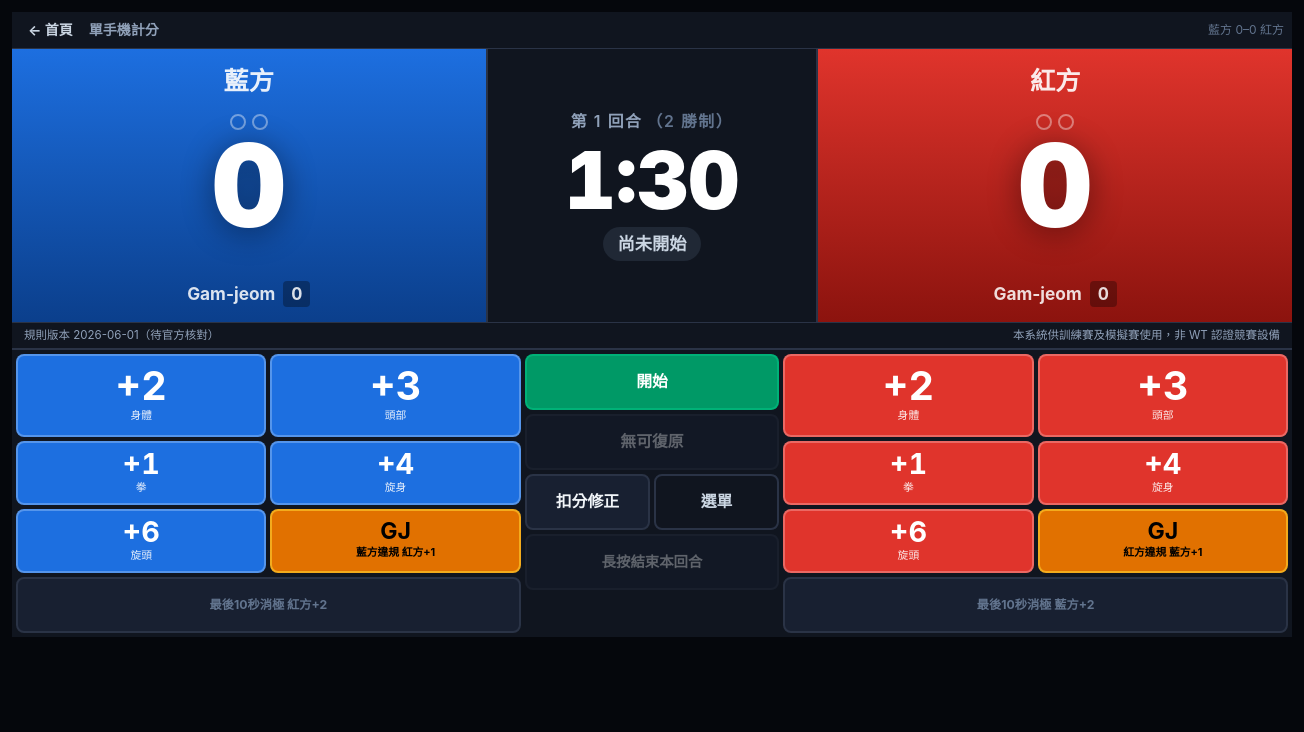
Scenario: 單機計分頁：修正與復原 › 扣分修正是單次模式：扣一次後自動退出
The width and height of the screenshot is (1304, 732).
Click the button "開始" at [652, 382], box [525,354,779,410]
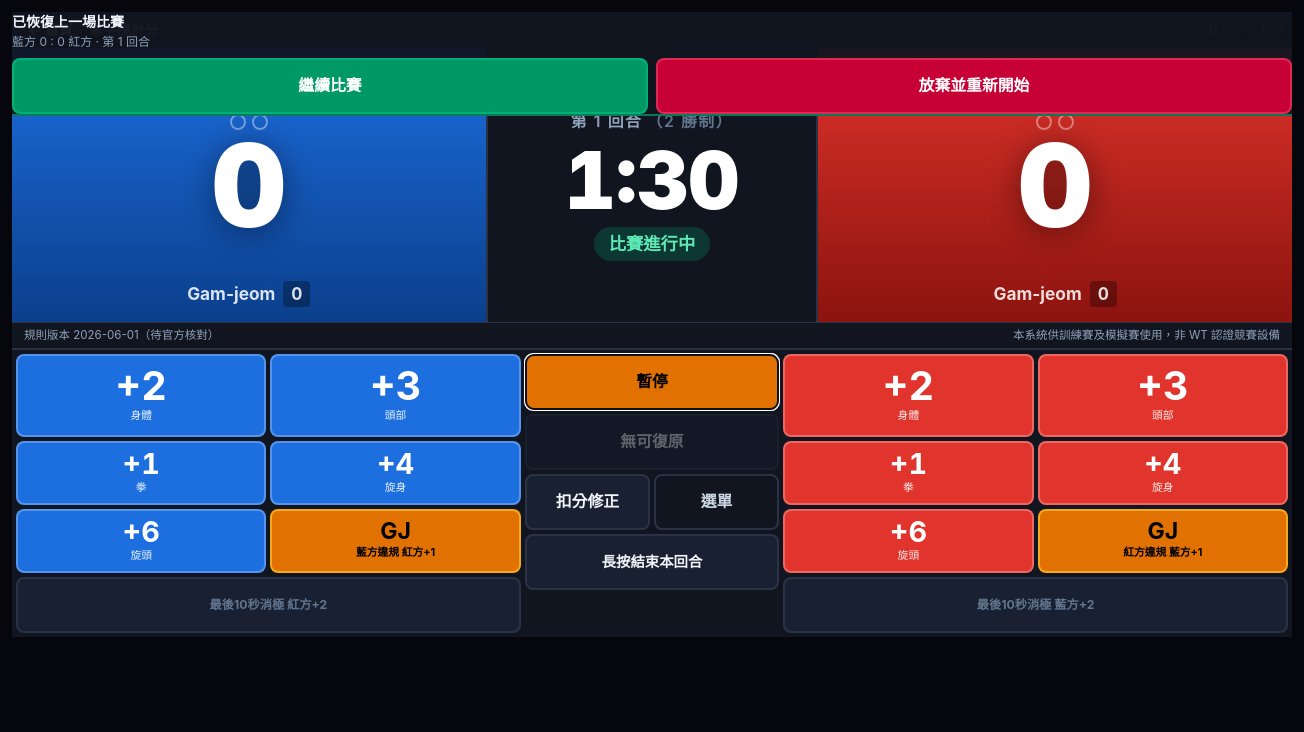
Click the button with aria-label "藍方 頭部踢擊 得 3 分" at [396, 395], box [270,354,521,437]
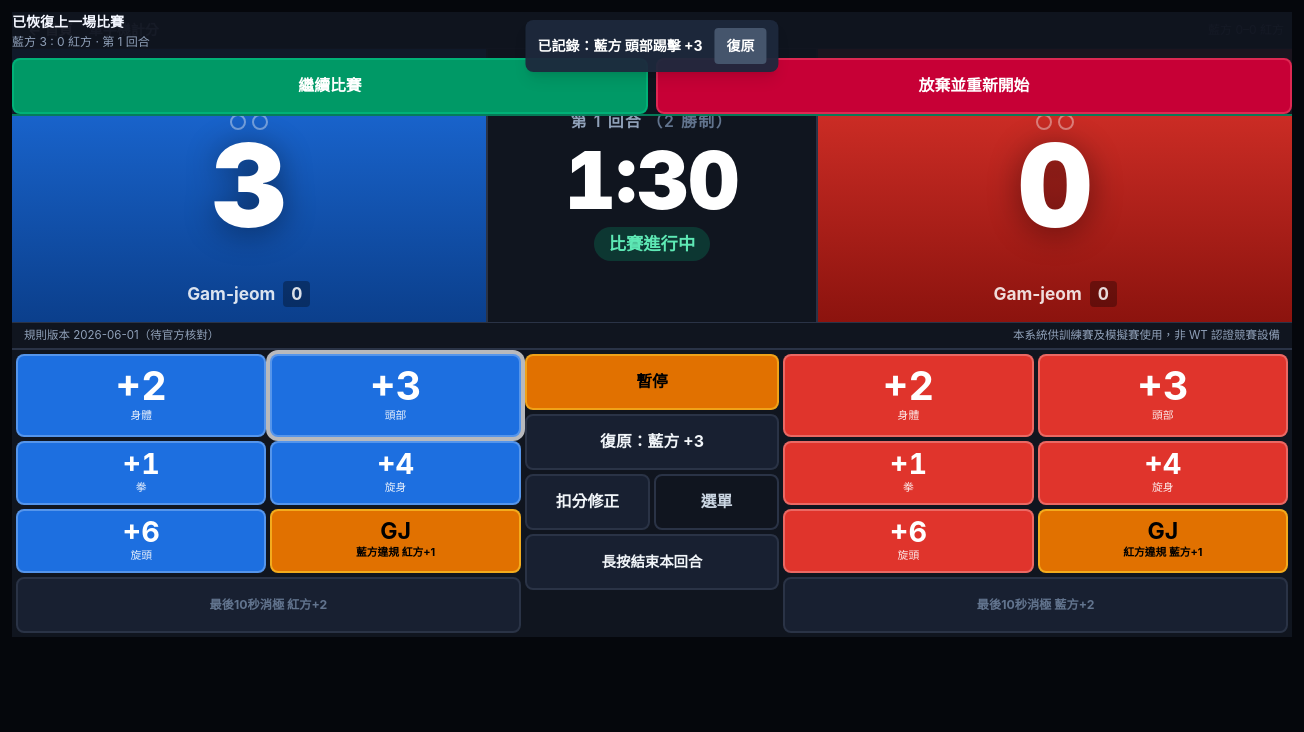
Click the button "扣分修正" at [587, 502], box [525,474,650,530]
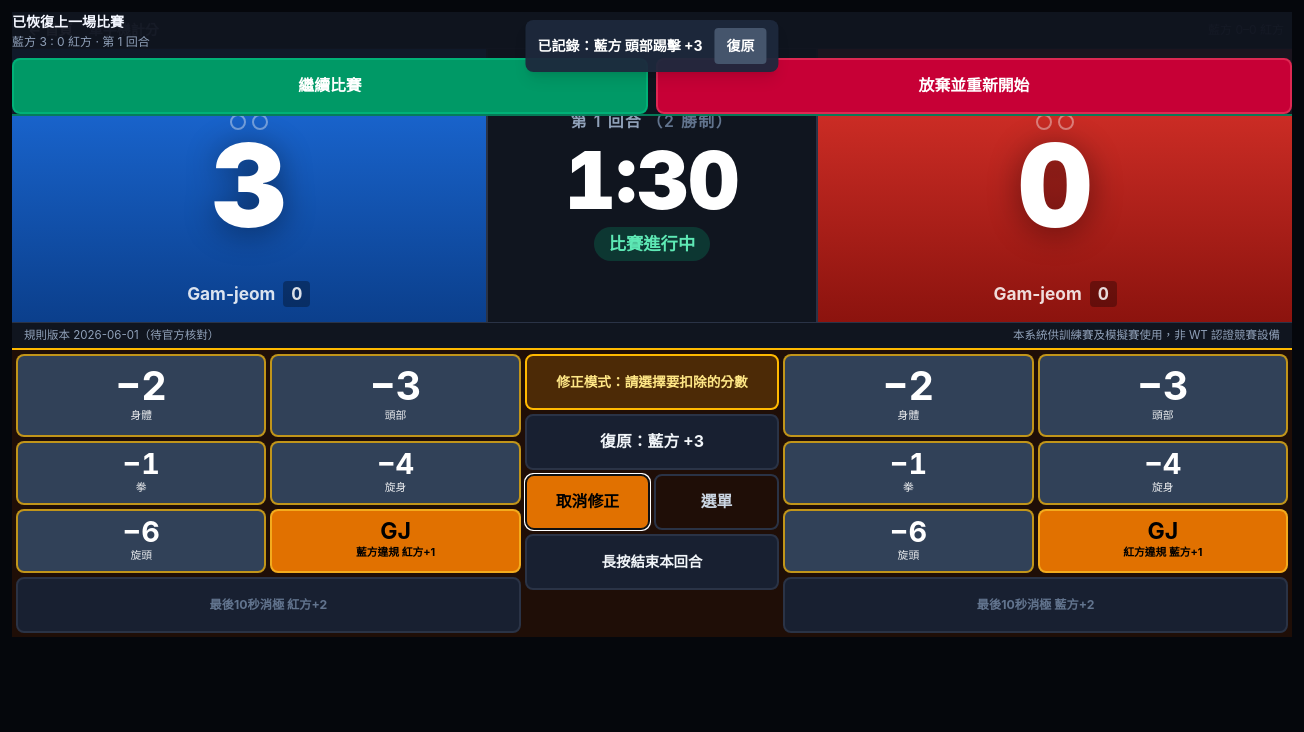
expect the text "修正模式：請選擇要扣除的分數" is shown: met, box [525,354,779,410]
expect the button with aria-label "藍方 頭部踢擊 扣除 3 分" is shown: met
Click the button with aria-label "藍方 頭部踢擊 扣除 3 分" at [396, 395], box [270,354,521,437]
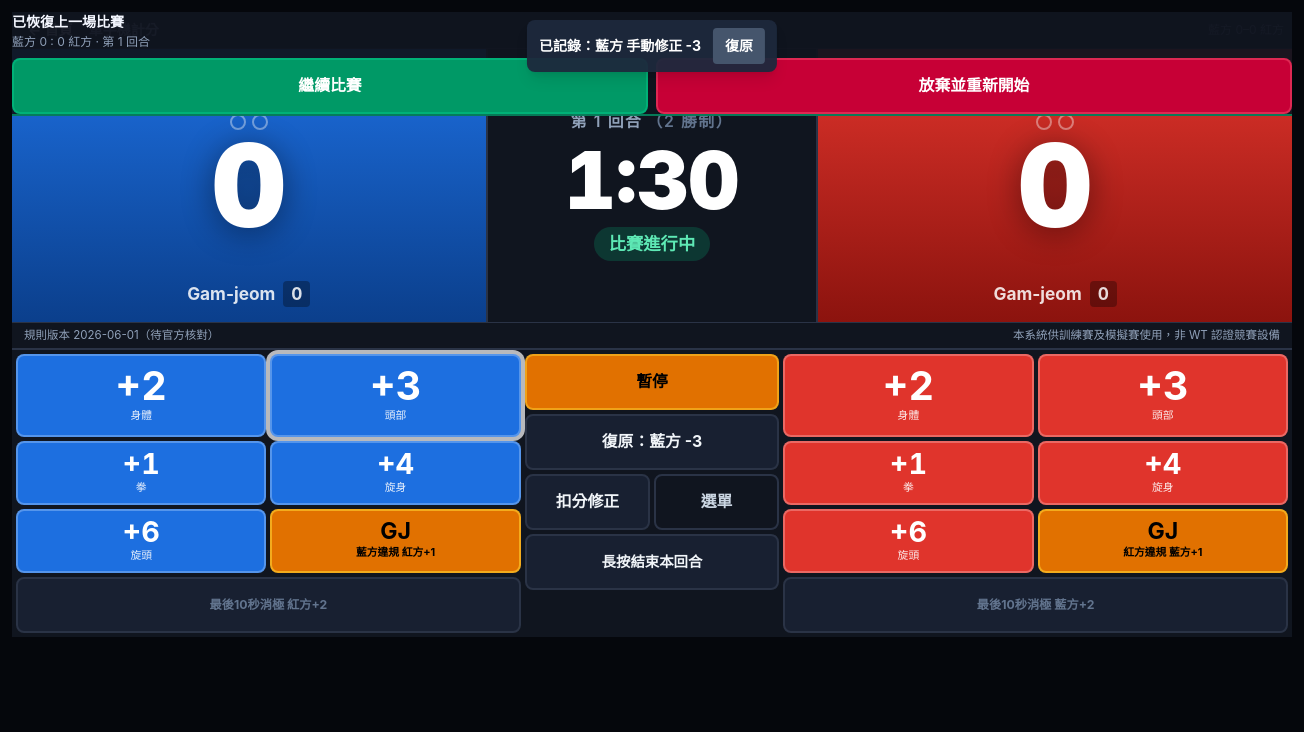
expect the text "修正模式：請選擇要扣除的分數" is gone: met
expect the button with aria-label "藍方 頭部踢擊 得 3 分" is shown: met, box [270,354,521,437]
